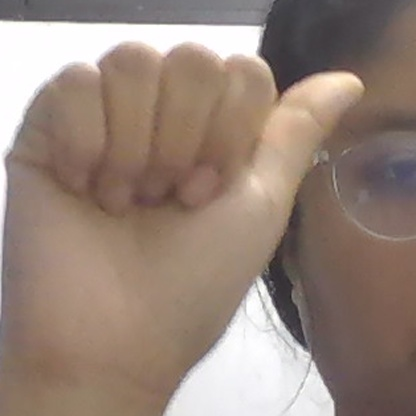A: (0, 43, 362, 386)
